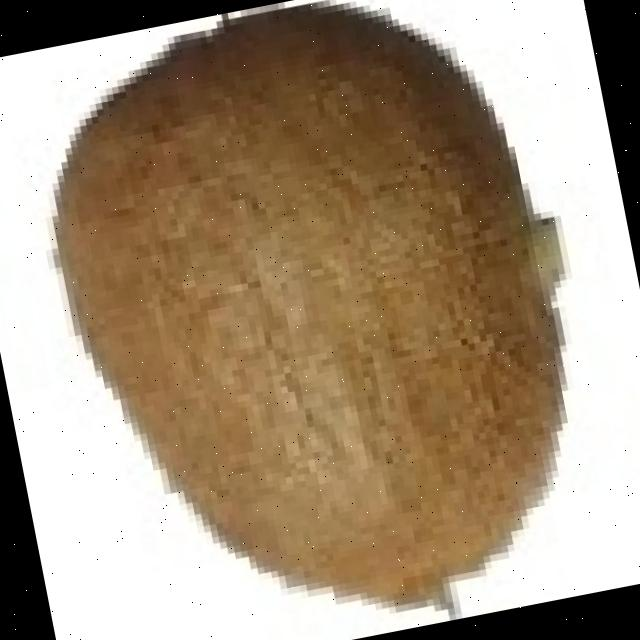kiwi: (51, 20, 550, 614)
